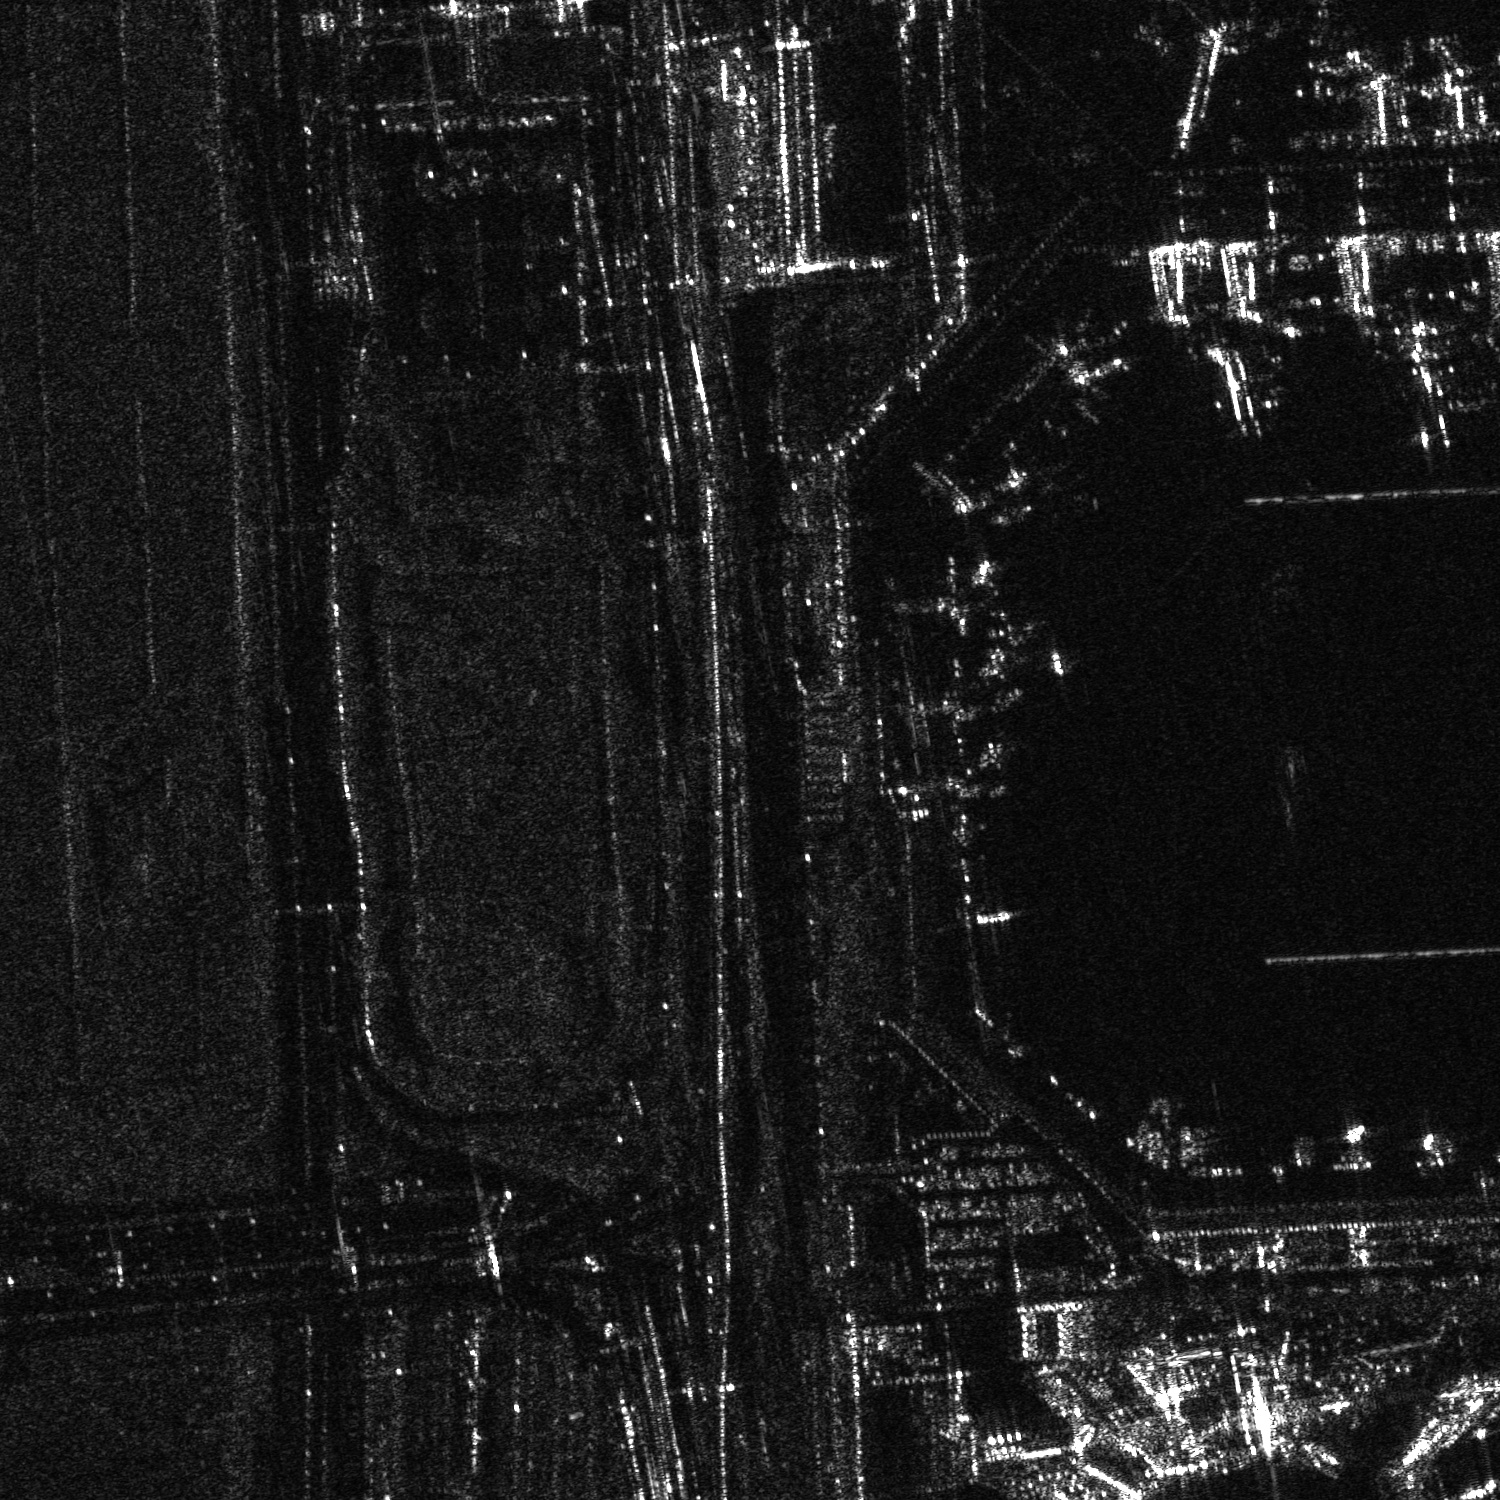A220: (1190, 338, 1284, 441)
A320/321: (929, 466, 1043, 560)
Boeing737: (1043, 339, 1135, 409)
Boeing787: (1359, 315, 1466, 448)
